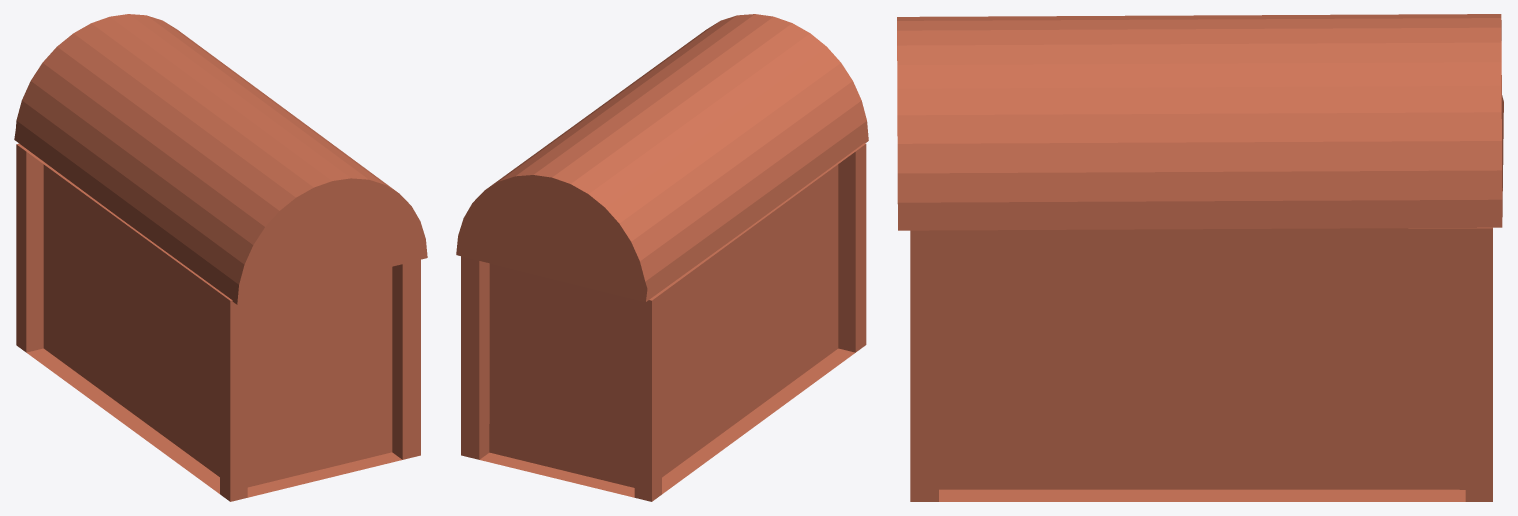
The model's file is Truhe_zu_VK.fbx.
3 views of the same model, side by side, from view 1: azimuth 30°, elevation 25°; view 2: azimuth 150°, elevation 25°; view 3: azimuth 270°, elevation 25° (orthographic). The views are drawn at different scales.
Visible parts, largest first — view 1: Cylinder; view 2: Cylinder; view 3: Cylinder.
Boxes of the visible parts, bbox=[...] form: Cylinder: bbox=[14, 14, 427, 501]; Cylinder: bbox=[456, 14, 868, 501]; Cylinder: bbox=[897, 14, 1503, 501].
Bounding box in the file's own units: 99.82 × 150 × 200.
